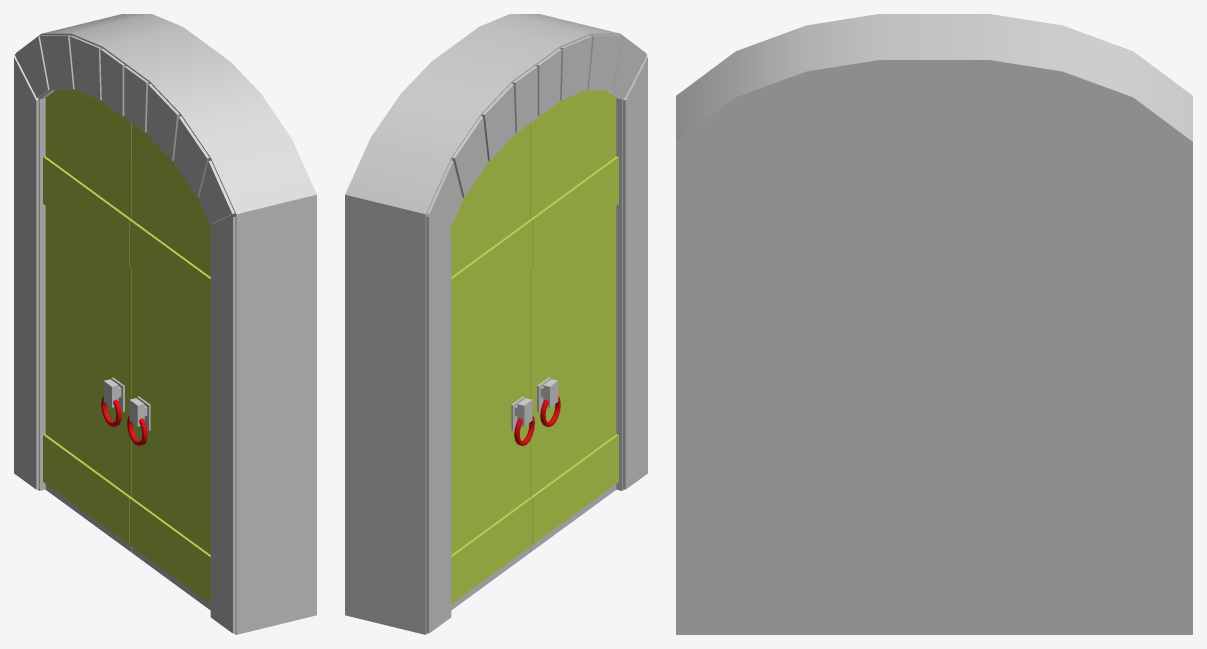
The model's file is Drzwi podwójne.fbx.
The picture shows the model from 3 angles, left to right: view 1: azimuth 30°, elevation 25°; view 2: azimuth 150°, elevation 25°; view 3: azimuth 270°, elevation 25°; orthographic projection. The views are drawn at different scales.
Parts seen in each view (by area): view 1: Boole; view 2: Boole; view 3: Boole.
Part boxes in pixels (<box>): Boole: <box>14,14,316,634</box>; Boole: <box>345,14,647,634</box>; Boole: <box>676,14,1192,634</box>.
Bounding box in the file's own units: 57.47 × 313 × 255.
